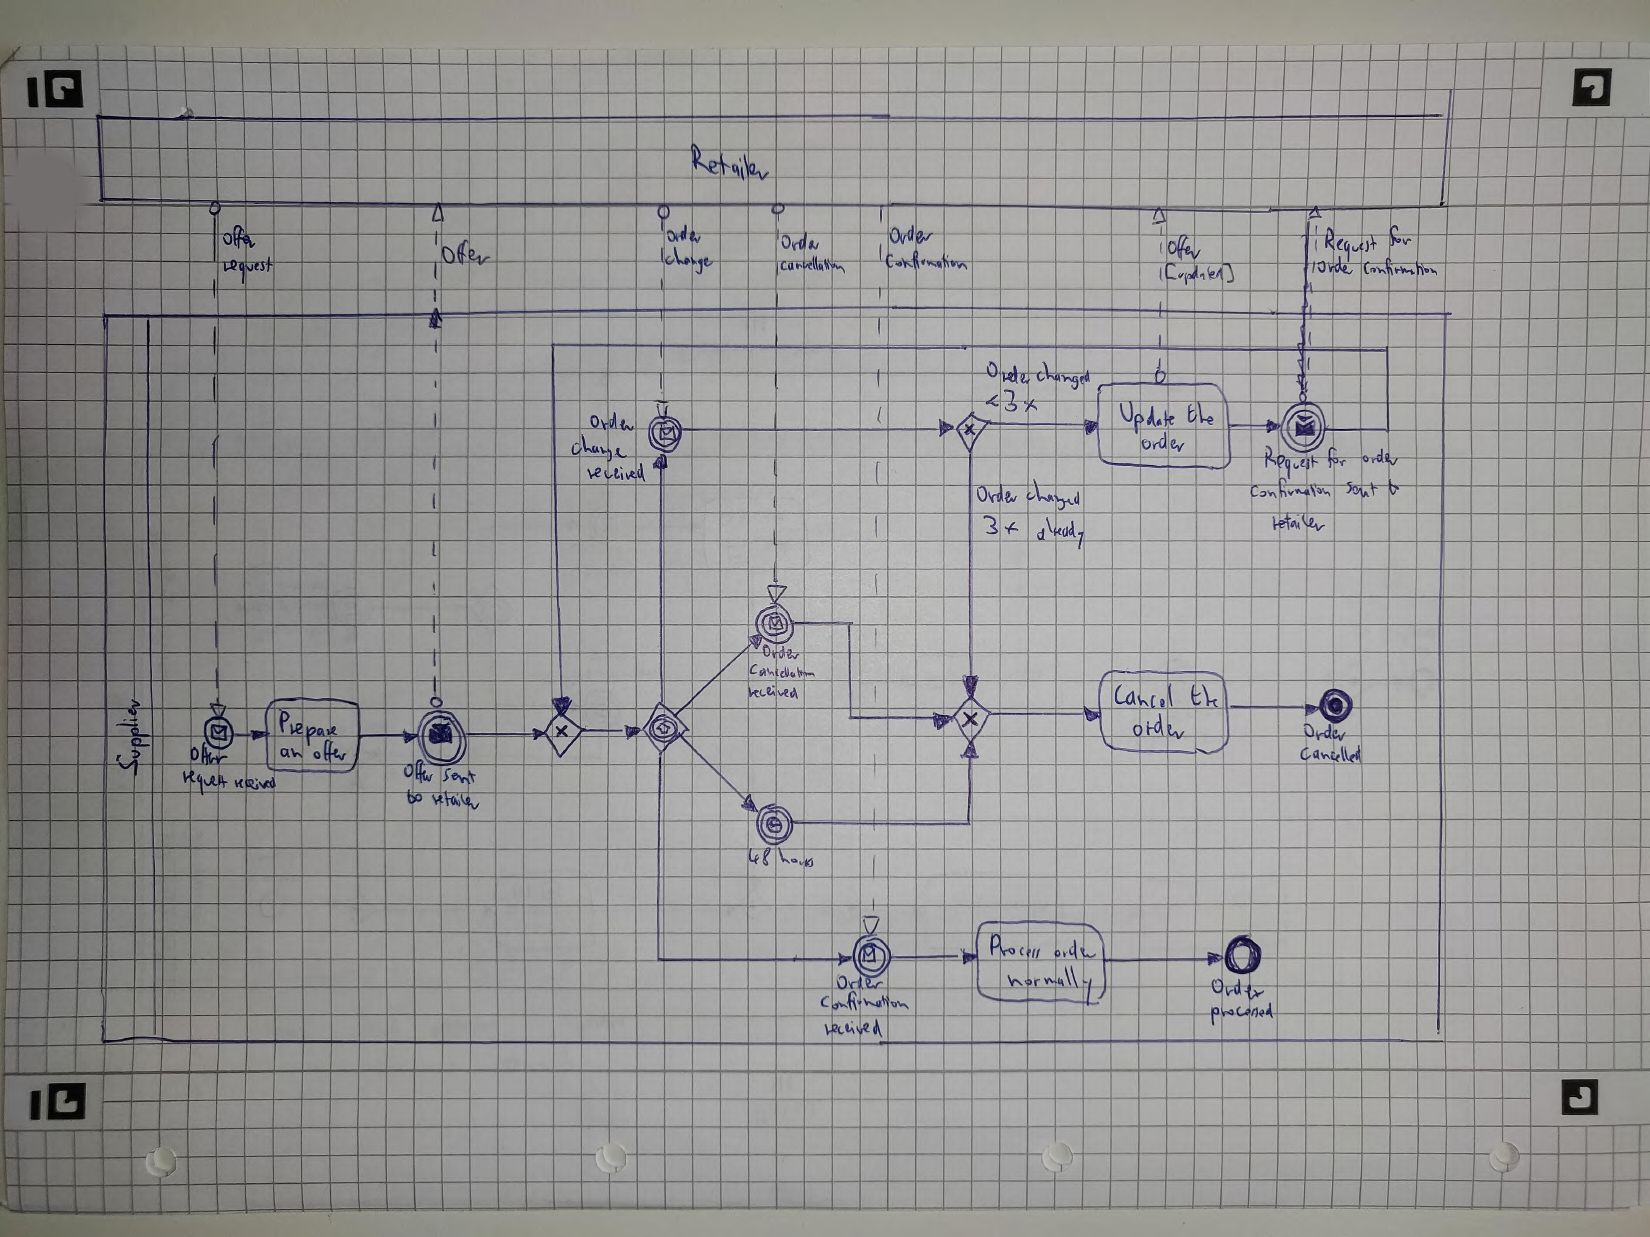3x: (982, 515, 1019, 542)
48: (747, 846, 774, 869)
>3x: (984, 389, 1037, 414)
Cancel: (1111, 683, 1184, 712)
Cancellation: (750, 664, 815, 681)
Confirmation: (819, 991, 912, 1014), (882, 251, 968, 273), (1249, 481, 1339, 502)
Offer: (440, 233, 494, 272), (184, 741, 227, 767), (401, 760, 437, 786)
Order: (986, 355, 1028, 389), (587, 411, 638, 437), (778, 230, 822, 257), (1211, 977, 1262, 1001), (974, 483, 1017, 509), (1303, 722, 1349, 745), (887, 223, 932, 246), (838, 975, 883, 991), (763, 646, 802, 661)
Prepare: (272, 709, 343, 738)
Process: (984, 933, 1043, 964)
Request: (1317, 225, 1377, 255), (1260, 444, 1314, 474)
Retailer: (687, 144, 773, 186)
Sent: (439, 765, 479, 787), (1343, 479, 1378, 500)
Supplier: (113, 702, 149, 774)
Update: (1117, 400, 1174, 431)
[updated]: (1163, 259, 1234, 283)
already: (1032, 515, 1085, 550)
an: (277, 741, 307, 765)
cancellation: (776, 257, 846, 278)
cancelled: (1299, 746, 1363, 767)
change: (664, 240, 716, 274), (570, 437, 628, 459)
changed: (1032, 363, 1097, 392), (1021, 483, 1084, 509)
confirmation: (1358, 256, 1442, 281)
for: (1380, 222, 1414, 255), (1326, 446, 1350, 468)
hours: (776, 848, 817, 872)
normally: (1008, 969, 1095, 998)
offer: (1160, 230, 1211, 262), (309, 741, 349, 767), (220, 225, 252, 253)
order: (1129, 715, 1190, 745), (1046, 936, 1100, 967), (663, 220, 704, 249), (1311, 255, 1358, 279), (1139, 433, 1185, 453), (1362, 447, 1397, 468)
processed: (1207, 1003, 1277, 1025)
received: (582, 463, 644, 483), (226, 772, 281, 793), (822, 1020, 883, 1038), (748, 686, 800, 700)
request: (217, 253, 277, 278), (177, 767, 223, 793)
retailer: (427, 789, 482, 813), (1267, 515, 1328, 534)
the: (1180, 402, 1216, 431), (1187, 683, 1223, 712)
to: (403, 787, 426, 808), (1382, 476, 1401, 500)
x: (1003, 517, 1015, 539), (1021, 398, 1035, 413)
